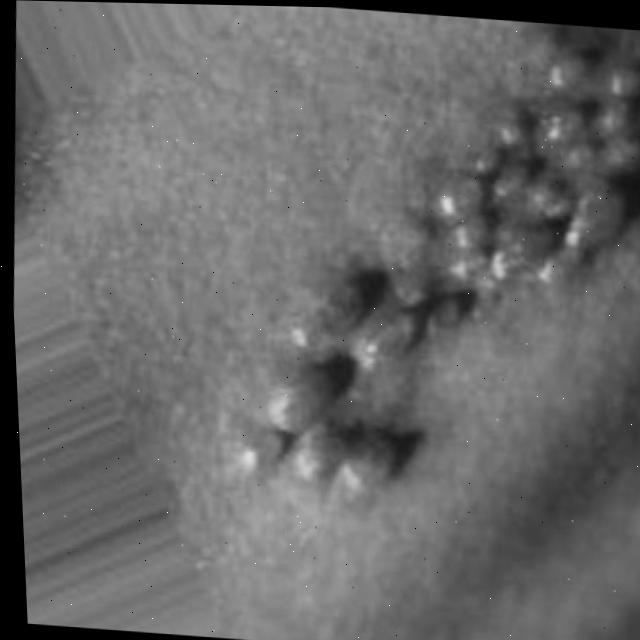Shingles: (215, 27, 640, 513)
